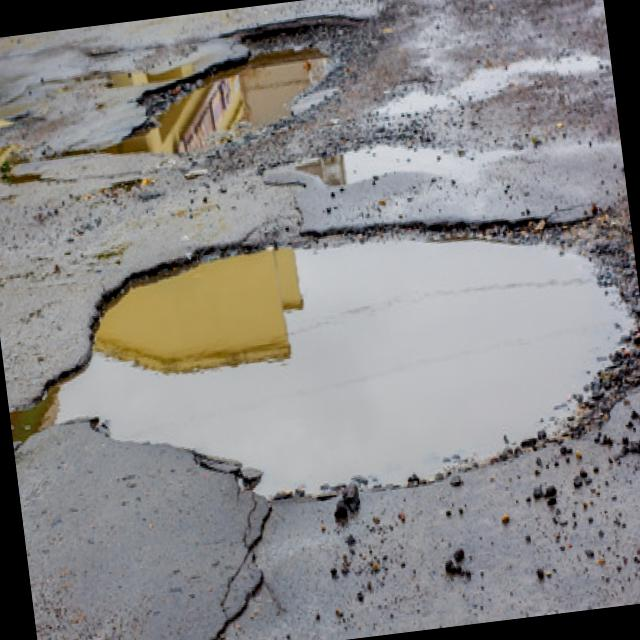bad-road: (0, 187, 640, 531), (126, 8, 383, 166)
